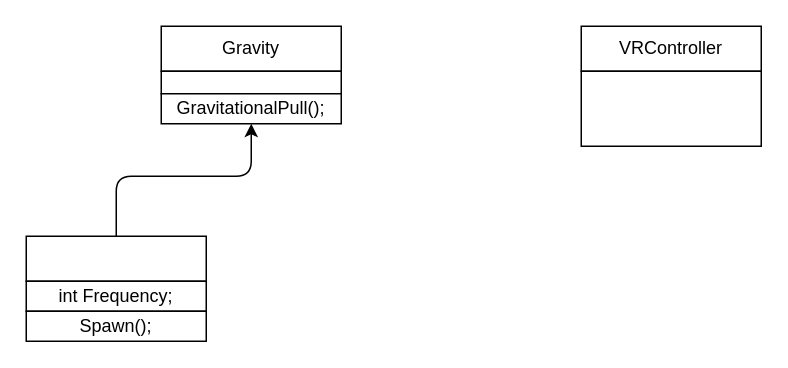
This 788x368 diagram has some shape labels left out. Here are the shapes that lost their labels. From the top down, the centre of each, then its label:
At [250,82]: "float Intensity;".
At [670,108]: "LeftHand(); RightHand(); Grab();".
At [115,258]: "Spawner".
